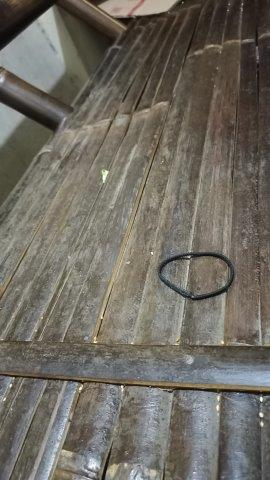karet: (157, 252, 235, 300)
